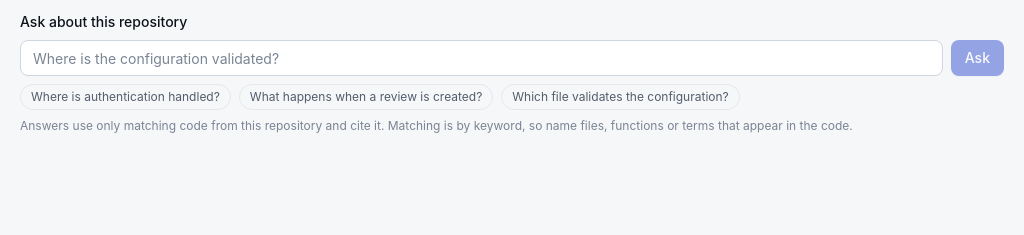
repository Q&A › shows API errors such as the quota being reached
The width and height of the screenshot is (1024, 235).
Type "Where is the discount applied?" into the field labelled "Ask about this repository". click: (481, 58)
box: [20,40,943,76]
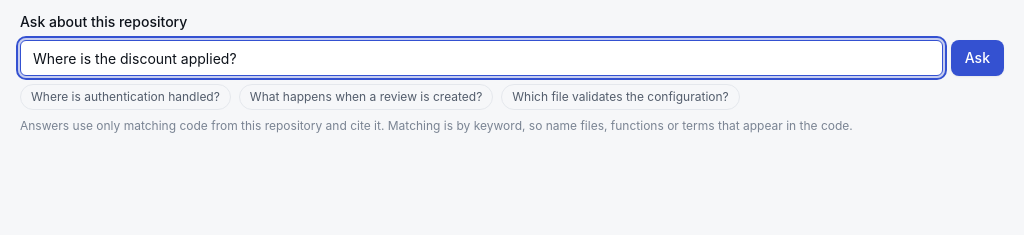
Click the button "Ask". click: (977, 58)
box: [951,40,1004,76]
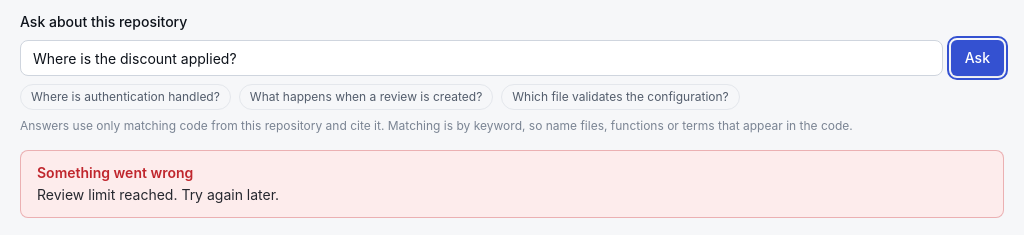
Expected: the text "Review limit reached. Try again later." is shown, [37,186,279,203]
